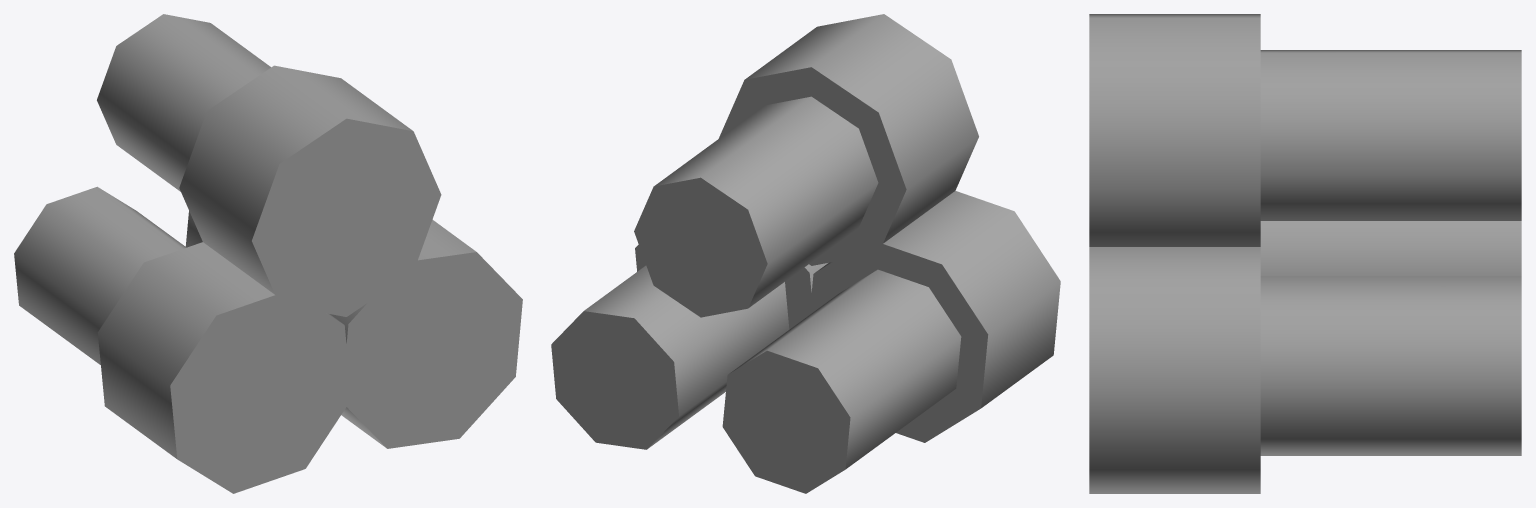
Rendered from SM_FrontArching.fbx.
3 views of the same model, side by side, from view 1: azimuth 30°, elevation 25°; view 2: azimuth 150°, elevation 25°; view 3: azimuth 270°, elevation 25° (orthographic). The views are drawn at different scales.
Parts seen in each view (by area): view 1: FrontArching; view 2: FrontArching; view 3: FrontArching.
Part boxes in pixels (bbox=[...]): FrontArching: bbox=[14, 14, 522, 493]; FrontArching: bbox=[551, 14, 1060, 493]; FrontArching: bbox=[1089, 14, 1521, 493].
Bounding box in the file's own units: 1.37 × 1.29 × 1.23.
Materials: 1 (1 with a texture image).
